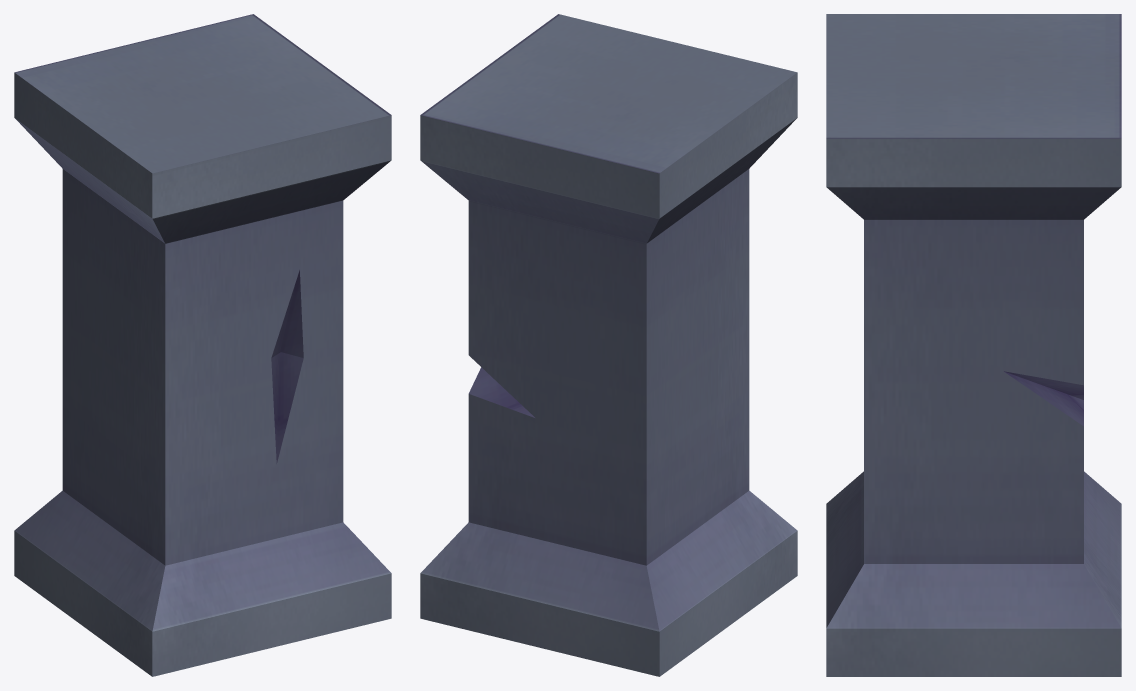
Rendered from col1.fbx.
3 renders of one model, left to right at view 1: azimuth 30°, elevation 25°; view 2: azimuth 150°, elevation 25°; view 3: azimuth 270°, elevation 25°, orthographic. The views are drawn at different scales.
Visible parts, largest first — view 1: ModularAssetsDisplay.005; view 2: ModularAssetsDisplay.005; view 3: ModularAssetsDisplay.005.
Boxes of the visible parts, <box> form: ModularAssetsDisplay.005: <box>14,14,391,676</box>; ModularAssetsDisplay.005: <box>420,14,797,676</box>; ModularAssetsDisplay.005: <box>826,14,1121,676</box>.
Bounding box in the file's own units: 41.01 × 82.46 × 41.01.
